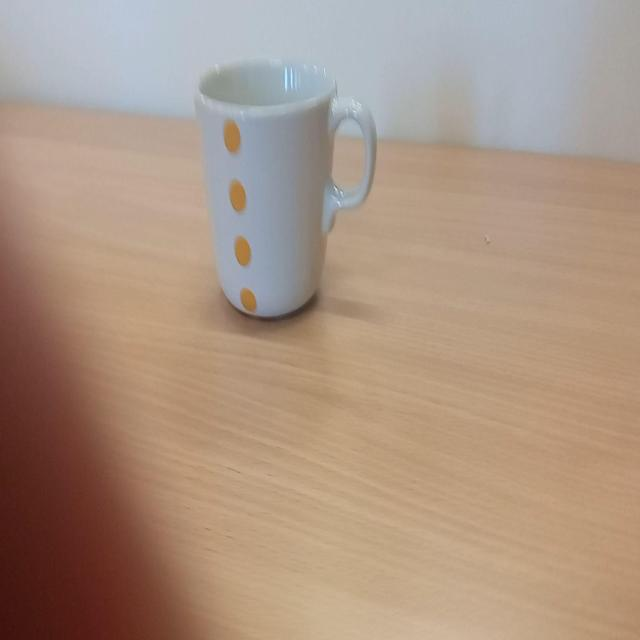cup: (193, 56, 378, 321)
